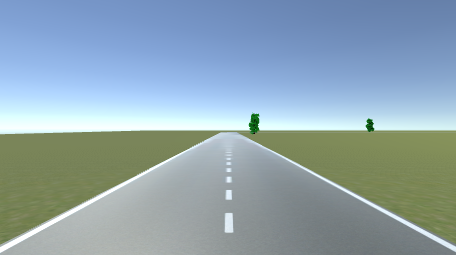tree: (249, 112, 261, 135), (365, 117, 375, 132)
